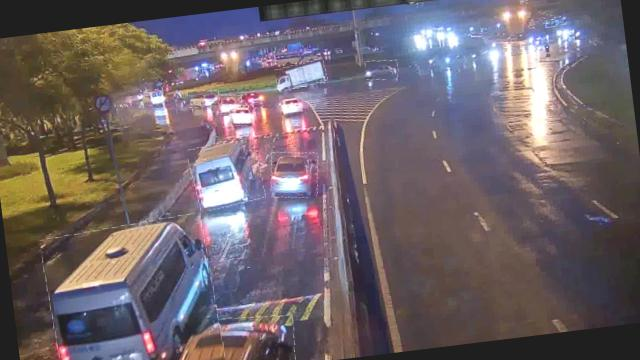Bus: (39, 213, 224, 360), (187, 136, 264, 211)
Car: (177, 309, 296, 360), (266, 148, 320, 200), (364, 58, 398, 81), (186, 88, 220, 109), (279, 93, 306, 118), (228, 102, 255, 127), (214, 93, 242, 116)
Truck: (274, 59, 328, 90)
